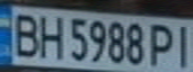5: (63, 14, 90, 62)
8: (124, 19, 148, 66), (106, 18, 127, 65)
9: (84, 17, 109, 63)
B: (6, 9, 42, 58)
H: (36, 11, 66, 58)
I: (169, 21, 193, 69)
P: (148, 20, 178, 69)
